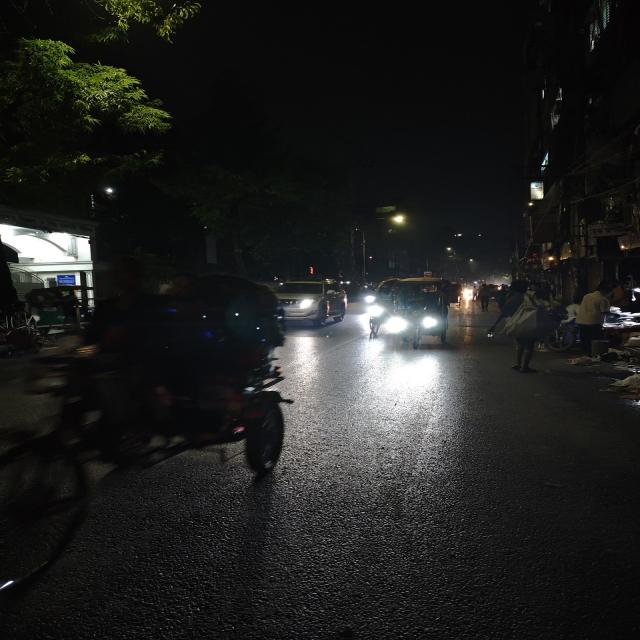car: (273, 277, 357, 329)
pedestrian: (495, 282, 546, 378), (568, 280, 618, 355), (472, 278, 496, 317)
rickshaw: (391, 274, 450, 351), (356, 274, 399, 346)
